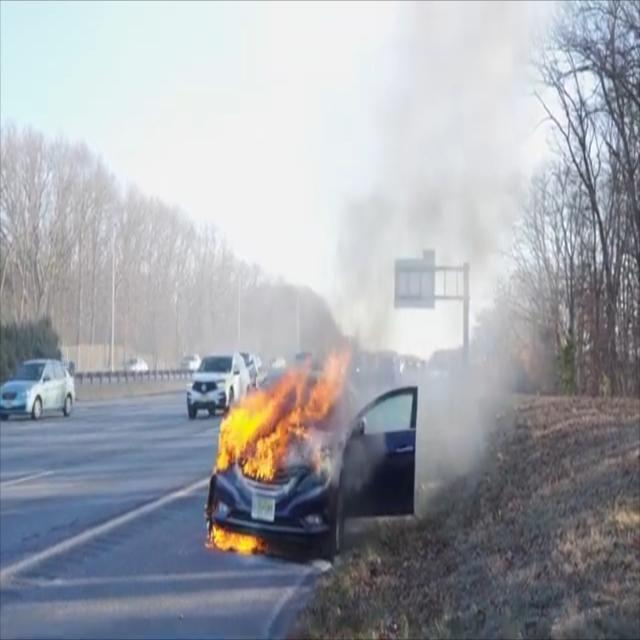fire: (207, 324, 352, 562)
